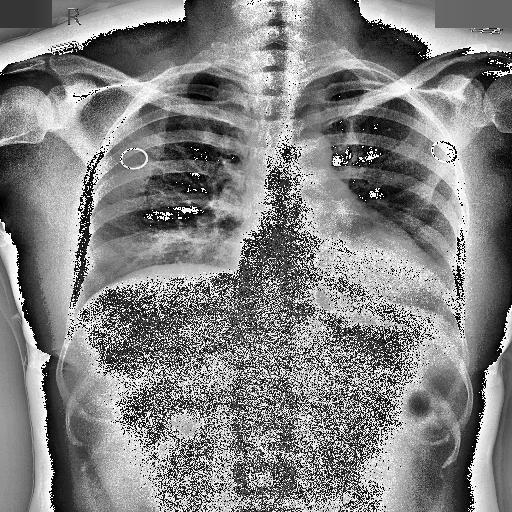3- Cardiomegaly: (231, 224, 446, 308), (232, 238, 456, 306), (224, 232, 451, 296)
